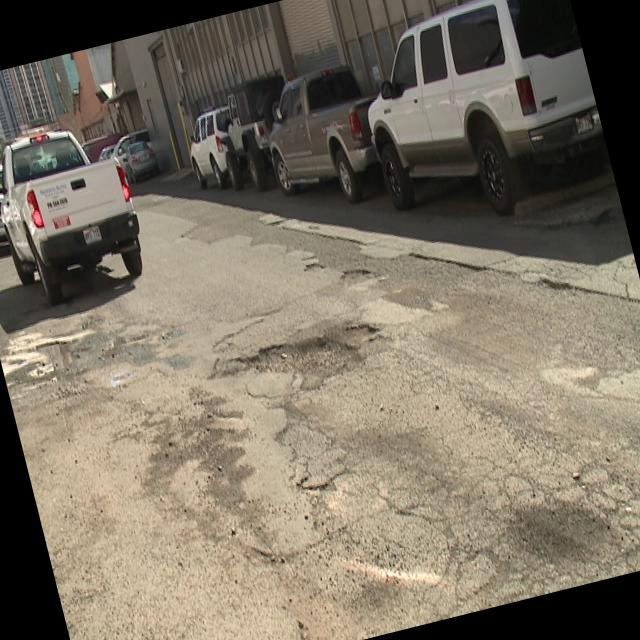Potholes: (226, 290, 405, 418)
